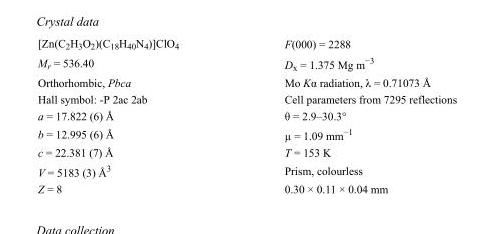table: (37, 36, 456, 194)
table column: (231, 36, 456, 194), (37, 36, 231, 194)
table row: (37, 52, 456, 73), (37, 123, 456, 143), (37, 160, 456, 180), (37, 73, 456, 90), (37, 90, 456, 107), (37, 143, 456, 160), (37, 36, 456, 52), (37, 107, 456, 123), (37, 180, 456, 194)
